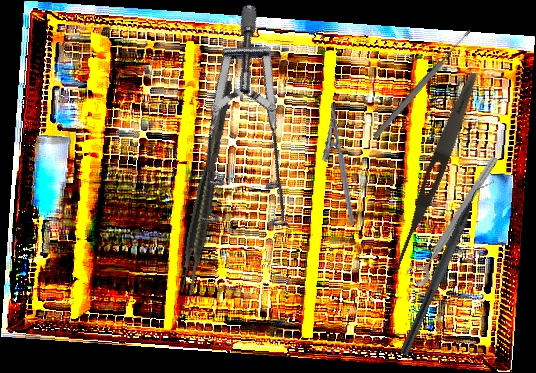Chopper: (399, 171, 497, 363)
Dressing Forceps: (387, 69, 483, 279)
Fixation Ring: (402, 149, 502, 289)
Needle Holder: (314, 102, 355, 228)
Speculum: (131, 1, 380, 263)
Surgical Spoon: (371, 28, 474, 140)
Tissue Forceps: (175, 79, 240, 298)
